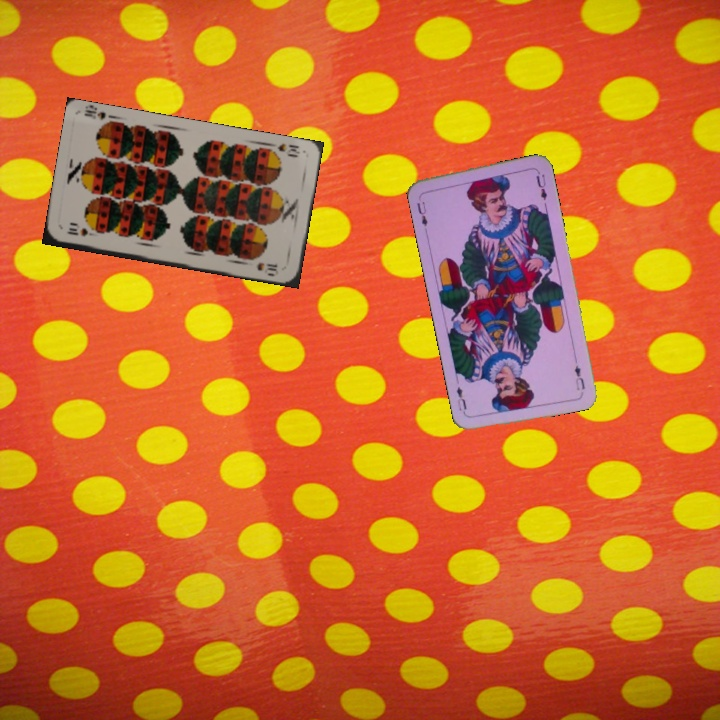EU: (413, 193, 430, 229), (570, 361, 588, 393)
S10: (265, 139, 302, 160), (62, 224, 100, 239)
